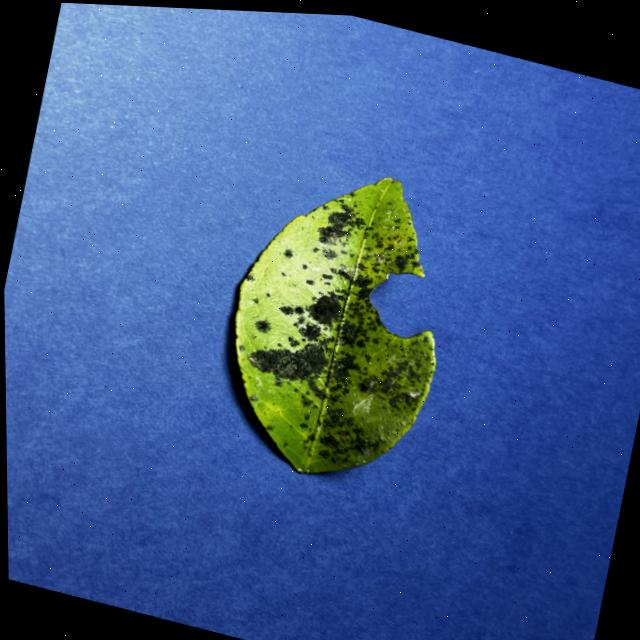sooty_mold: (236, 178, 435, 473)
